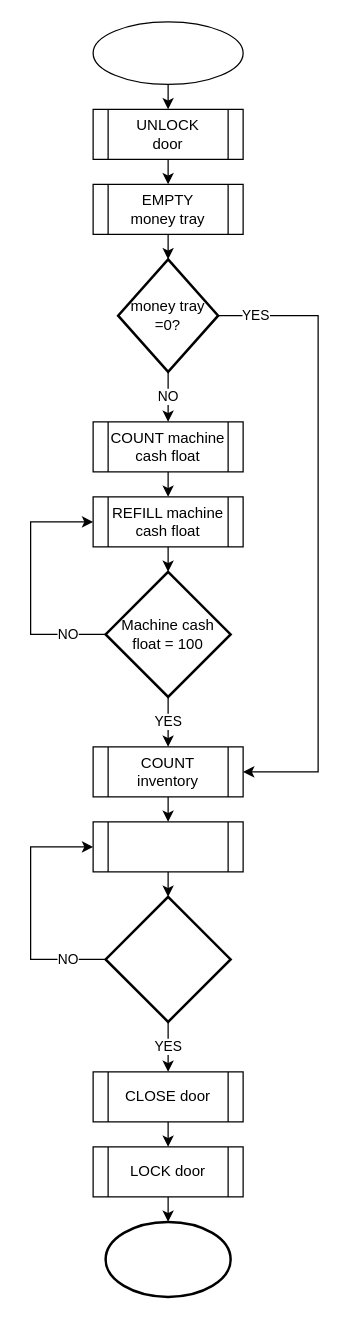
Some shapes in this 350 by 1320 pixel diagram are drawn without their labels. Each missing label, with the centre of its shape:
"END" belongs at point 167,1259.
"inventory = 20" belongs at point 167,958.
"Machine Owner START" belongs at point 167,52.
"REFILL inventory" belongs at point 167,846.
